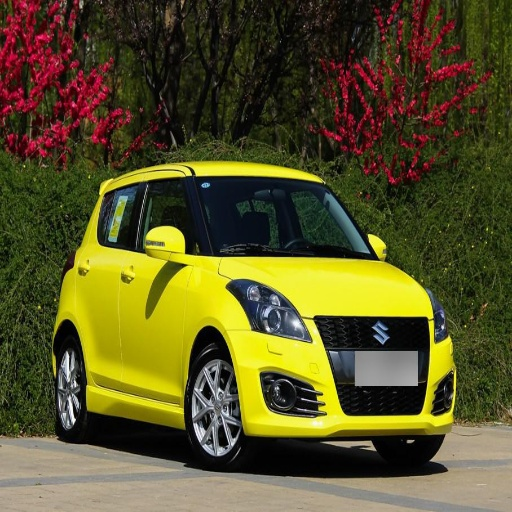front_bumper: (233, 315, 451, 436)
front_right_door: (121, 176, 195, 400)
front_right_light: (229, 282, 312, 341)
hood: (217, 258, 434, 316)
